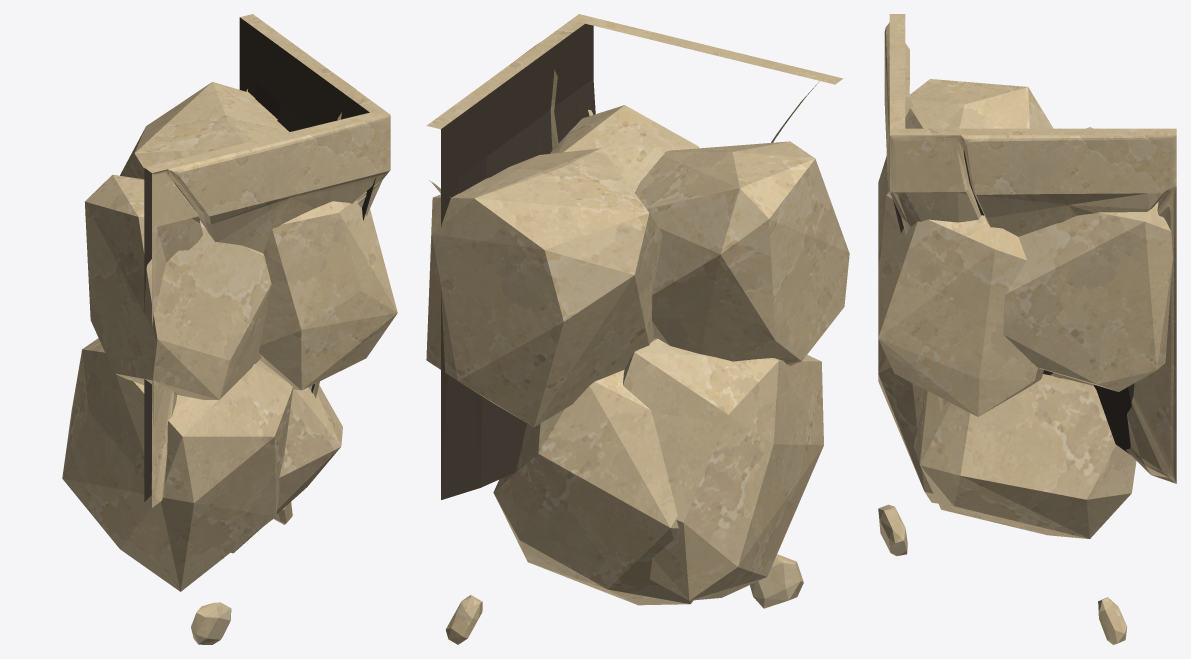
File: ground_bottom_square_corner_05.glb
3 renders of one model, left to right at view 1: azimuth 30°, elevation 25°; view 2: azimuth 150°, elevation 25°; view 3: azimuth 270°, elevation 25°, orthographic. The views are drawn at different scales.
Parts seen in each view (by area): view 1: GroundBottomSquareCorner05_Body; view 2: GroundBottomSquareCorner05_Body; view 3: GroundBottomSquareCorner05_Body.
Part boxes in pixels (x1,y1,x2,y2): GroundBottomSquareCorner05_Body: (62,14,397,644); GroundBottomSquareCorner05_Body: (426,14,849,644); GroundBottomSquareCorner05_Body: (878,14,1176,644).
Bounding box in the file's own units: 1.04 × 1.96 × 1.04.
8 materials, 7 textured.
